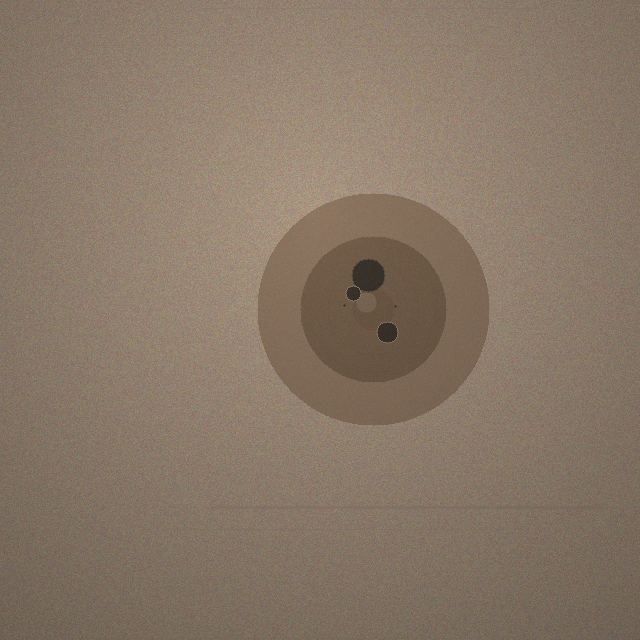shrinkage: (257, 193, 489, 425)
